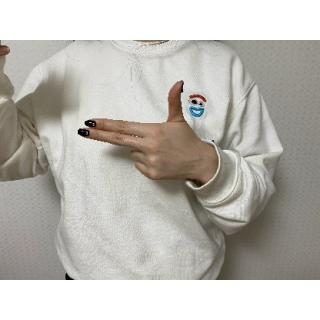GHAYN: (72, 76, 210, 182)
